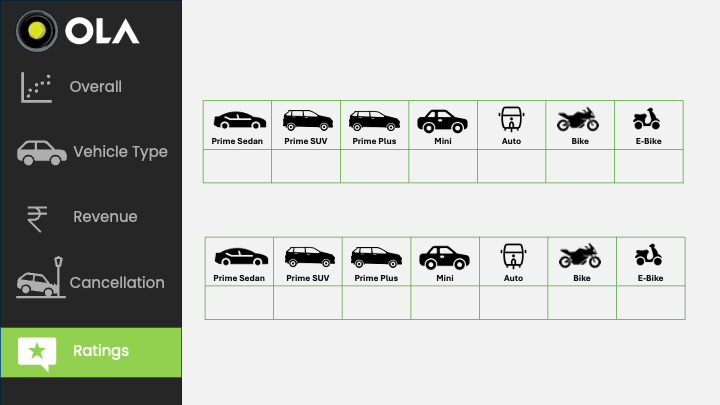

Layout of this report page (visuals, bound fields, positions):
{"tool":"powerbi","page":{"name":"Ratings","canvas":[1280,720],"ordinal":4},"visuals":[{"type":"actionButton","box":[0,225,322.6,90.5],"z":0},{"type":"actionButton","box":[0,340.5,322.6,90.5],"z":1000},{"type":"actionButton","box":[0,448.8,322.6,90.5],"z":2000},{"type":"actionButton","box":[1.2,109.5,322.6,90.5],"z":3000},{"type":"card","fields":{"Values":["Avg(july.Driver_Ratings)"]},"box":[361.8,259.2,121.1,65.8],"z":3001},{"type":"card","fields":{"Values":["Avg(july.Driver_Ratings)"]},"box":[478.9,259.2,121.1,65.8],"z":3002},{"type":"card","fields":{"Values":["Avg(july.Driver_Ratings)"]},"box":[610.5,259.2,121.1,65.8],"z":3003},{"type":"card","fields":{"Values":["Avg(july.Driver_Ratings)"]},"box":[731.6,259.2,121.1,65.8],"z":3004},{"type":"card","fields":{"Values":["Avg(july.Driver_Ratings)"]},"box":[852.6,259.2,121.1,65.8],"z":3005},{"type":"card","fields":{"Values":["Avg(july.Driver_Ratings)"]},"box":[1092.1,259.2,121.1,65.8],"z":3006},{"type":"card","fields":{"Values":["Avg(july.Driver_Ratings)"]},"box":[973.7,259.2,121.1,65.8],"z":3007},{"type":"card","fields":{"Values":["Avg(july.Customer_Rating)"]},"box":[361.8,506.6,121.1,65.8],"z":3008},{"type":"card","fields":{"Values":["Avg(july.Customer_Rating)"]},"box":[482.9,506.6,121.1,65.8],"z":3009},{"type":"card","fields":{"Values":["Avg(july.Customer_Rating)"]},"box":[610.5,503.9,121.1,65.8],"z":3010},{"type":"card","fields":{"Values":["Avg(july.Customer_Rating)"]},"box":[731.6,503.9,121.1,65.8],"z":3011},{"type":"card","fields":{"Values":["Avg(july.Customer_Rating)"]},"box":[852.6,503.9,121.1,65.8],"z":3012},{"type":"card","fields":{"Values":["Avg(july.Customer_Rating)"]},"box":[971.1,503.9,121.1,65.8],"z":3013},{"type":"card","fields":{"Values":["Avg(july.Customer_Rating)"]},"box":[1092.1,503.9,121.1,65.8],"z":3014},{"type":"textbox","box":[361.8,143.4,177.6,36.8],"z":3015},{"type":"textbox","box":[361.8,385.5,177.6,36.8],"z":3016},{"type":"slicer","title":"Data","fields":{"Values":["Bookings-100000-Rows (2).Date"]},"box":[923.7,0,289.5,135.5],"z":3017}]}

Visuals, with their boxes on the page's 1280x720 design canvas (x1, y1, x2, y2). These are canvas units, not pixel positions in the 720x405 screenshot, which may show the page scaled, cropped or inside an application window:
actionButton: 0:225:323:316
actionButton: 0:340:323:431
actionButton: 0:449:323:539
actionButton: 1:110:324:200
card - Avg(july.Driver_Ratings): 362:259:483:325
card - Avg(july.Driver_Ratings): 479:259:600:325
card - Avg(july.Driver_Ratings): 610:259:732:325
card - Avg(july.Driver_Ratings): 732:259:853:325
card - Avg(july.Driver_Ratings): 853:259:974:325
card - Avg(july.Driver_Ratings): 1092:259:1213:325
card - Avg(july.Driver_Ratings): 974:259:1095:325
card - Avg(july.Customer_Rating): 362:507:483:572
card - Avg(july.Customer_Rating): 483:507:604:572
card - Avg(july.Customer_Rating): 610:504:732:570
card - Avg(july.Customer_Rating): 732:504:853:570
card - Avg(july.Customer_Rating): 853:504:974:570
card - Avg(july.Customer_Rating): 971:504:1092:570
card - Avg(july.Customer_Rating): 1092:504:1213:570
textbox: 362:143:539:180
textbox: 362:386:539:422
"Data" slicer: 924:0:1213:136
